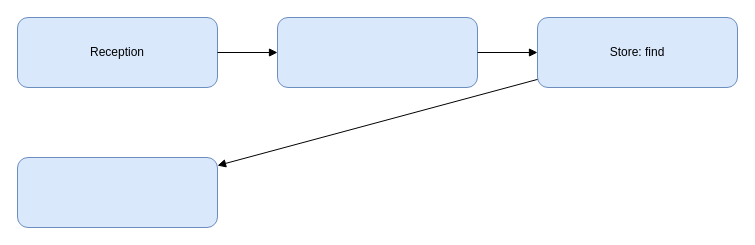
Some shapes in this 755 by 245 pixel diagram are drawn without their labels. Each missing label, with the centre of its shape:
"BookingService" goes at pixel 377 52.
"Cancel result" goes at pixel 117 192.
